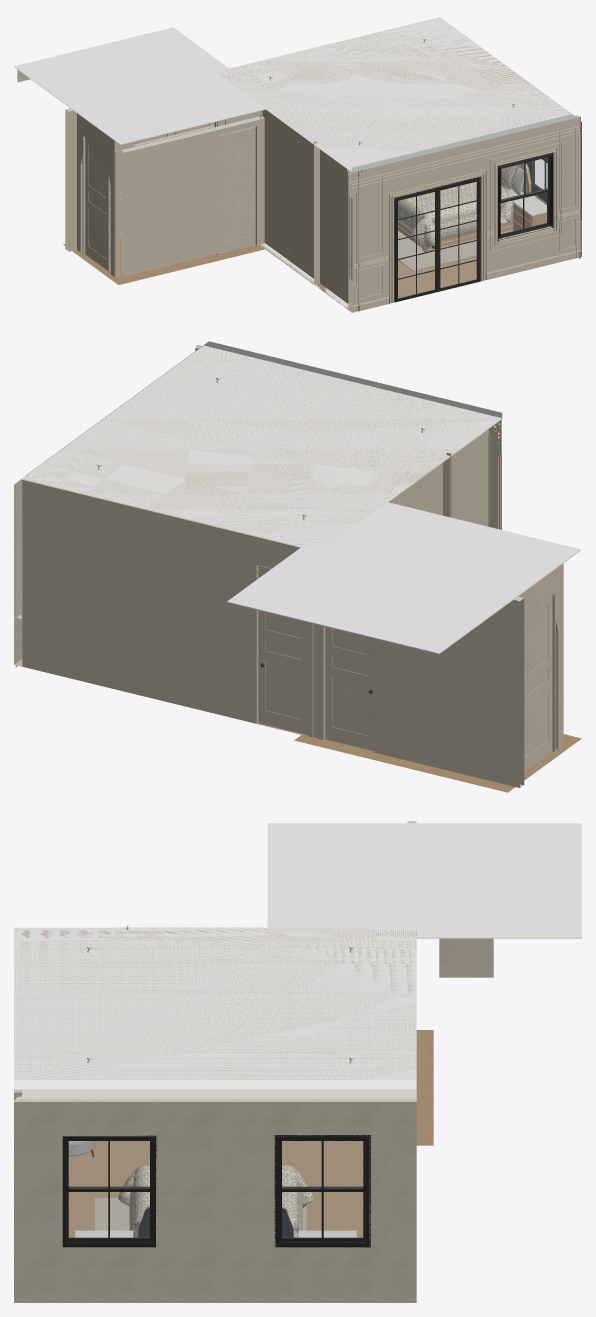
The model's file is primary-bedroom-26fc1eef0567.glb.
3 renders of one model, top to bottom at view 1: azimuth 30°, elevation 25°; view 2: azimuth 150°, elevation 25°; view 3: azimuth 270°, elevation 25°, orthographic. The views are drawn at different scales.
Parts seen in each view (by area): view 1: primary-bedroom-9d91b47435c6fb33, primary-bedroom-look-9d91b47435c6fb33, primary-bedroom-b0ade14315e4f1c3, primary-bedroom-look-9ecc0d558be1c706, primary-bedroom-e8793759323e04f0, primary-bedroom-0987656e6ddb83c1, primary-bedroom-fc6585fecfaf7ec3, primary-bedroom-look-18f70a4a9eda5dac, primary-bedroom-c791a0f218fead78, primary-bedroom-e1735639a83d20d7, primary-bedroom-b29583548b72a1ea, primary-bedroom-look-6c54e09c161b5848 (+18 smaller); view 2: primary-bedroom-9d91b47435c6fb33, primary-bedroom-21ac2ed1b4475155, primary-bedroom-look-9d91b47435c6fb33, primary-bedroom-e8793759323e04f0, primary-bedroom-look-21ac2ed1b4475155, primary-bedroom-b7a870a0f6b43c8c, primary-bedroom-look-6d601da8073fdc0e, primary-bedroom-look-6c54e09c161b5848, primary-bedroom-c791a0f218fead78, primary-bedroom-look-e48b5483df8cacdb, primary-bedroom-look-2575515a05775d9e, primary-bedroom-fc6585fecfaf7ec3 (+5 smaller); view 3: primary-bedroom-9d91b47435c6fb33, primary-bedroom-adb6f49a6d2cbec3, primary-bedroom-look-9d91b47435c6fb33, primary-bedroom-e8793759323e04f0, primary-bedroom-16d9002bc6318568, primary-bedroom-2575515a05775d9e, primary-bedroom-91f952a1d198b4a4, primary-bedroom-f5a37a5545b9d676, primary-bedroom-791abe15be22adf2, primary-bedroom-b29583548b72a1ea, primary-bedroom-look-95b94d4b81cfb474, primary-bedroom-look-2575515a05775d9e (+2 smaller).
Boxes of the visible parts, left/top/right/bottom form: primary-bedroom-9d91b47435c6fb33: left=215, top=17, right=575, bottom=172; primary-bedroom-look-9d91b47435c6fb33: left=14, top=27, right=265, bottom=144; primary-bedroom-b0ade14315e4f1c3: left=348, top=116, right=580, bottom=310; primary-bedroom-look-9ecc0d558be1c706: left=121, top=117, right=259, bottom=276; primary-bedroom-e8793759323e04f0: left=218, top=15, right=575, bottom=171; primary-bedroom-0987656e6ddb83c1: left=394, top=176, right=480, bottom=302; primary-bedroom-fc6585fecfaf7ec3: left=259, top=109, right=319, bottom=284; primary-bedroom-look-18f70a4a9eda5dac: left=218, top=126, right=255, bottom=253; primary-bedroom-c791a0f218fead78: left=314, top=144, right=358, bottom=312; primary-bedroom-e1735639a83d20d7: left=498, top=152, right=553, bottom=241; primary-bedroom-b29583548b72a1ea: left=398, top=181, right=513, bottom=250; primary-bedroom-look-6c54e09c161b5848: left=82, top=135, right=110, bottom=272; primary-bedroom-9d91b47435c6fb33: left=21, top=345, right=502, bottom=551; primary-bedroom-21ac2ed1b4475155: left=22, top=480, right=320, bottom=739; primary-bedroom-look-9d91b47435c6fb33: left=227, top=502, right=580, bottom=654; primary-bedroom-e8793759323e04f0: left=22, top=341, right=502, bottom=544; primary-bedroom-look-21ac2ed1b4475155: left=320, top=596, right=524, bottom=787; primary-bedroom-b7a870a0f6b43c8c: left=258, top=565, right=307, bottom=734; primary-bedroom-look-6d601da8073fdc0e: left=325, top=627, right=374, bottom=750; primary-bedroom-look-6c54e09c161b5848: left=524, top=592, right=555, bottom=771; primary-bedroom-c791a0f218fead78: left=443, top=426, right=491, bottom=526; primary-bedroom-look-e48b5483df8cacdb: left=518, top=563, right=563, bottom=749; primary-bedroom-look-2575515a05775d9e: left=294, top=734, right=581, bottom=792; primary-bedroom-fc6585fecfaf7ec3: left=389, top=459, right=446, bottom=515; primary-bedroom-9d91b47435c6fb33: left=14, top=927, right=416, bottom=1089; primary-bedroom-adb6f49a6d2cbec3: left=14, top=1100, right=416, bottom=1247; primary-bedroom-look-9d91b47435c6fb33: left=267, top=823, right=581, bottom=938; primary-bedroom-e8793759323e04f0: left=14, top=927, right=416, bottom=1088; primary-bedroom-16d9002bc6318568: left=15, top=1248, right=416, bottom=1300; primary-bedroom-2575515a05775d9e: left=14, top=1141, right=416, bottom=1302; primary-bedroom-91f952a1d198b4a4: left=274, top=1135, right=370, bottom=1247; primary-bedroom-f5a37a5545b9d676: left=62, top=1135, right=157, bottom=1247; primary-bedroom-791abe15be22adf2: left=14, top=1089, right=416, bottom=1098; primary-bedroom-b29583548b72a1ea: left=118, top=1165, right=313, bottom=1237; primary-bedroom-look-95b94d4b81cfb474: left=439, top=938, right=493, bottom=977; primary-bedroom-look-2575515a05775d9e: left=416, top=1030, right=433, bottom=1145.
Size of the model in its own units: 8.2 by 3.04 by 7.21.
38 materials, 7 textured.
